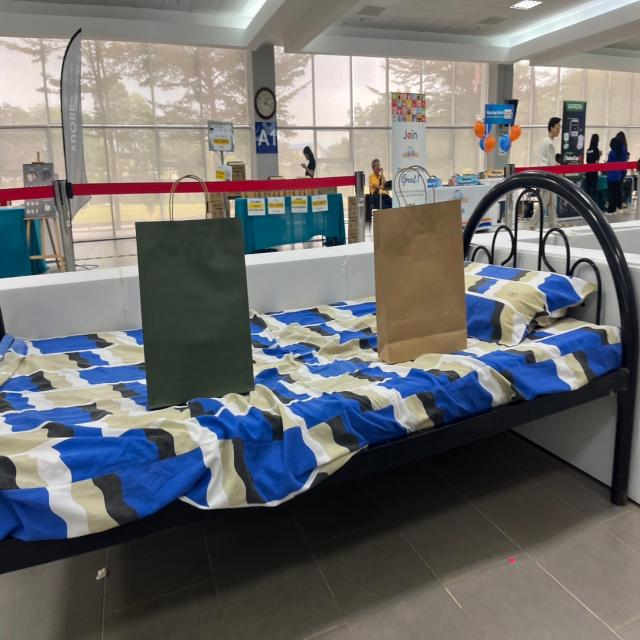bag: (149, 164, 249, 387), (373, 151, 464, 352)
